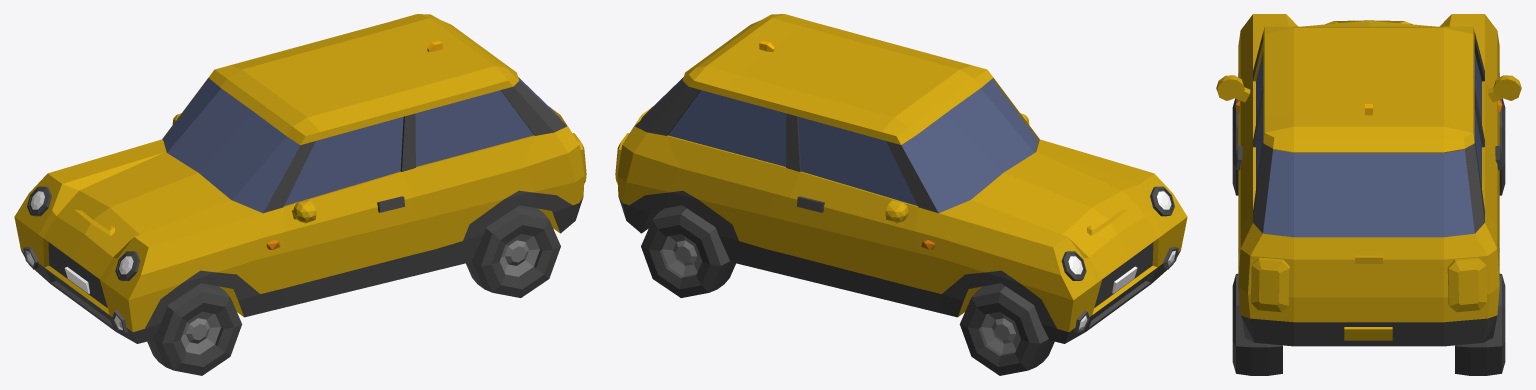
File: car_G.fbx
3 renders of one model, left to right at view 1: azimuth 30°, elevation 25°; view 2: azimuth 150°, elevation 25°; view 3: azimuth 270°, elevation 25°, orthographic. The views are drawn at different scales.
Parts seen in each view (by area): view 1: Mini1; view 2: Mini1; view 3: Mini1.
Boxes of the visible parts, bbox=[...] form: Mini1: bbox=[14, 14, 586, 375]; Mini1: bbox=[615, 14, 1187, 375]; Mini1: bbox=[1216, 14, 1521, 375].
Size of the model in its own units: 1523 by 684 by 748.
